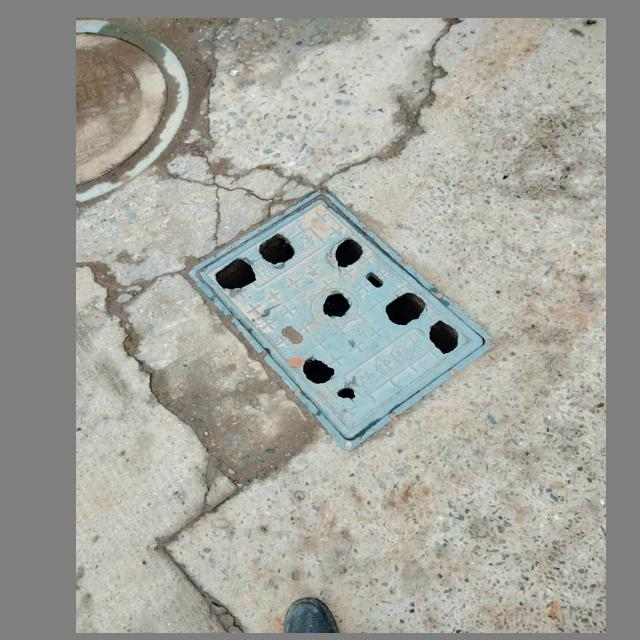broke: (184, 188, 495, 449)
